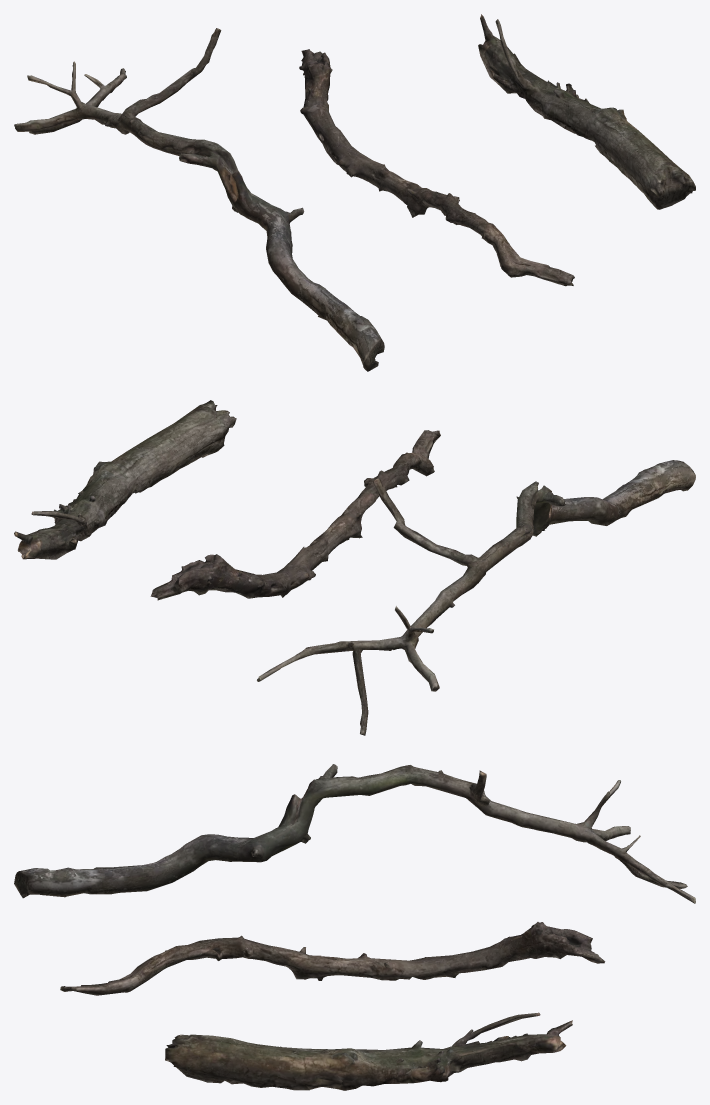
Rendered from dry_branches_medium_01.glb.
3 views of the same model, one above another, from view 1: azimuth 30°, elevation 25°; view 2: azimuth 150°, elevation 25°; view 3: azimuth 270°, elevation 25° (orthographic). The views are drawn at different scales.
Visible parts, largest first — view 1: dry_branches_medium_01_c; view 2: dry_branches_medium_01_c; view 3: dry_branches_medium_01_c.
Boxes of the visible parts, x1,y1,x2,y2 form: dry_branches_medium_01_c: [14, 14, 695, 371]; dry_branches_medium_01_c: [14, 400, 695, 735]; dry_branches_medium_01_c: [14, 764, 695, 1090].
Bounding box in the file's own units: 1.06 × 0.3401 × 1.3.
1 material, 1 textured.
